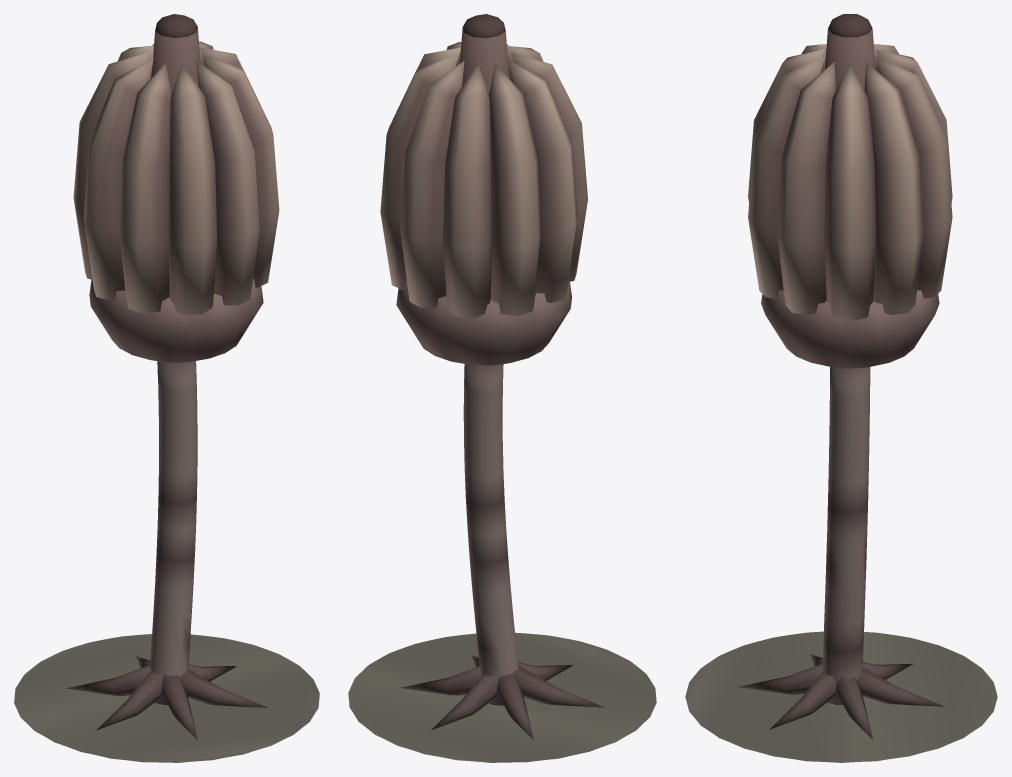
Rendered from EucalyptocrinitesCrassus.fbx.
The picture shows the model from 3 angles, left to right: view 1: azimuth 30°, elevation 25°; view 2: azimuth 150°, elevation 25°; view 3: azimuth 270°, elevation 25°; orthographic projection.
Parts seen in each view (by area): view 1: EucalyptocrinitesCrassus; view 2: EucalyptocrinitesCrassus; view 3: EucalyptocrinitesCrassus.
Boxes of the visible parts, bbox=[...] form: EucalyptocrinitesCrassus: bbox=[14, 14, 319, 762]; EucalyptocrinitesCrassus: bbox=[348, 14, 656, 762]; EucalyptocrinitesCrassus: bbox=[685, 14, 997, 762].
Size of the model in its own units: 0.7 by 1.7 by 0.7.
